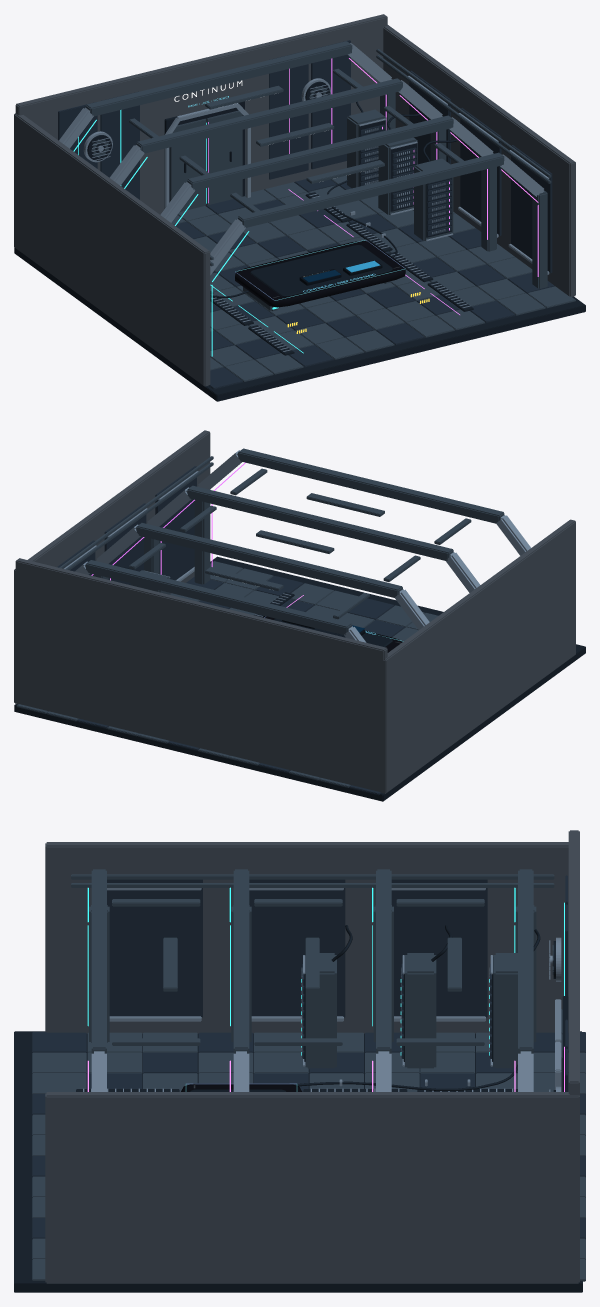
The model's file is continuum-bunker-v04.glb.
3 renders of one model, top to bottom at view 1: azimuth 30°, elevation 25°; view 2: azimuth 150°, elevation 25°; view 3: azimuth 270°, elevation 25°, orthographic. The views are drawn at different scales.
Parts seen in each view (by area): view 1: BunkerStructure / V04 Basalt concrete, FloorModules / V04 Graphite steel, BunkerStructure / V04 Graphite steel, BunkerStructure / V04 Navy composite, FloorModules / V04 Navy composite, FloorModules / V04 Cooling recess, BunkerStructure / V04 Brushed titanium, RuntimeDesk / CONTINUUM_2, LightFixtures / V04 Graphite steel, ServerModules / V04 Graphite steel, ServerModules / V04 Navy composite, RuntimeDesk / CONTINUUM_1 (+6 smaller); view 2: BunkerStructure / V04 Basalt concrete, BunkerStructure / V04 Graphite steel, FloorModules / V04 Cooling recess, FloorModules / V04 Graphite steel, BunkerStructure / V04 Brushed titanium, LightFixtures / V04 Graphite steel, BunkerStructure / V04 Navy composite, FloorModules / V04 Navy composite; view 3: BunkerStructure / V04 Basalt concrete, BunkerStructure / V04 Navy composite, BunkerStructure / V04 Graphite steel, FloorModules / V04 Graphite steel, FloorModules / V04 Cooling recess, ServerModules / V04 Graphite steel, FloorModules / V04 Navy composite, LightFixtures / V04 Graphite steel, BunkerStructure / V04 Brushed titanium, ServerModules / V04 Cooling recess, RuntimeDesk / CONTINUUM_1, ServerModules / V04 Navy composite (+1 smaller).
Boxes of the visible parts, bbox=[...] form: BunkerStructure / V04 Basalt concrete: bbox=[14, 14, 575, 386]; FloorModules / V04 Graphite steel: bbox=[171, 175, 575, 381]; BunkerStructure / V04 Graphite steel: bbox=[85, 41, 551, 288]; BunkerStructure / V04 Navy composite: bbox=[58, 40, 552, 273]; FloorModules / V04 Navy composite: bbox=[174, 179, 554, 389]; FloorModules / V04 Cooling recess: bbox=[14, 192, 585, 401]; BunkerStructure / V04 Brushed titanium: bbox=[59, 43, 549, 275]; RuntimeDesk / CONTINUUM_2: bbox=[250, 245, 392, 296]; LightFixtures / V04 Graphite steel: bbox=[129, 68, 463, 212]; ServerModules / V04 Graphite steel: bbox=[347, 109, 453, 240]; ServerModules / V04 Navy composite: bbox=[360, 124, 451, 236]; RuntimeDesk / CONTINUUM_1: bbox=[235, 240, 405, 307]; BunkerStructure / V04 Basalt concrete: bbox=[14, 430, 575, 793]; BunkerStructure / V04 Graphite steel: bbox=[59, 448, 504, 634]; FloorModules / V04 Cooling recess: bbox=[14, 556, 585, 801]; FloorModules / V04 Graphite steel: bbox=[16, 561, 438, 787]; BunkerStructure / V04 Brushed titanium: bbox=[64, 450, 530, 642]; LightFixtures / V04 Graphite steel: bbox=[129, 468, 471, 619]; BunkerStructure / V04 Navy composite: bbox=[57, 466, 196, 584]; FloorModules / V04 Navy composite: bbox=[77, 576, 404, 795]; BunkerStructure / V04 Basalt concrete: bbox=[45, 830, 579, 1283]; BunkerStructure / V04 Navy composite: bbox=[107, 875, 567, 1091]; BunkerStructure / V04 Graphite steel: bbox=[71, 869, 562, 1091]; FloorModules / V04 Graphite steel: bbox=[32, 1032, 585, 1281]; FloorModules / V04 Cooling recess: bbox=[14, 1031, 582, 1292]; ServerModules / V04 Graphite steel: bbox=[305, 953, 517, 1069]; FloorModules / V04 Navy composite: bbox=[32, 1032, 585, 1239]; LightFixtures / V04 Graphite steel: bbox=[112, 899, 484, 1045]; BunkerStructure / V04 Brushed titanium: bbox=[91, 888, 561, 1091]; ServerModules / V04 Cooling recess: bbox=[304, 925, 540, 1061]; RuntimeDesk / CONTINUUM_1: bbox=[181, 1083, 301, 1091]; ServerModules / V04 Navy composite: bbox=[302, 963, 491, 1058].
Bounding box in the file's own units: 21.18 × 8.46 × 20.11.
